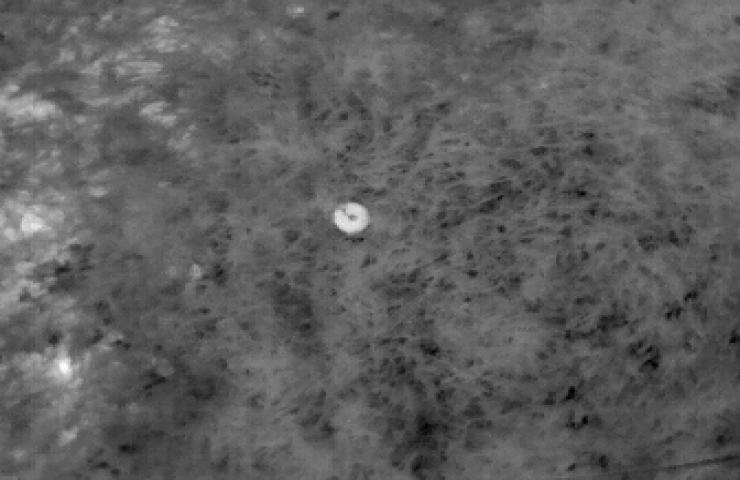landmines: (330, 198, 375, 237)
